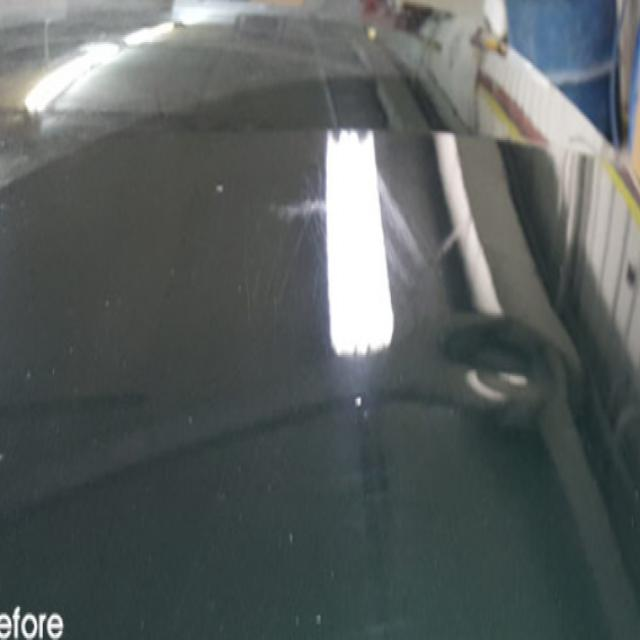dents: (416, 272, 595, 469)
